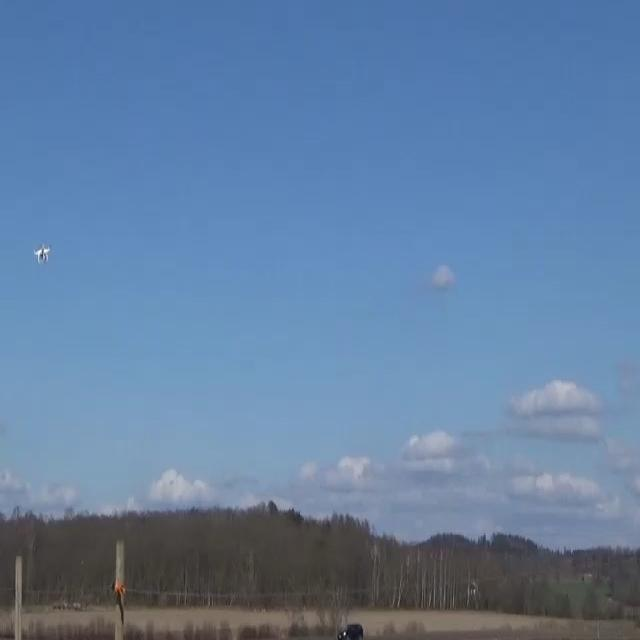drone: (33, 242, 51, 264)
